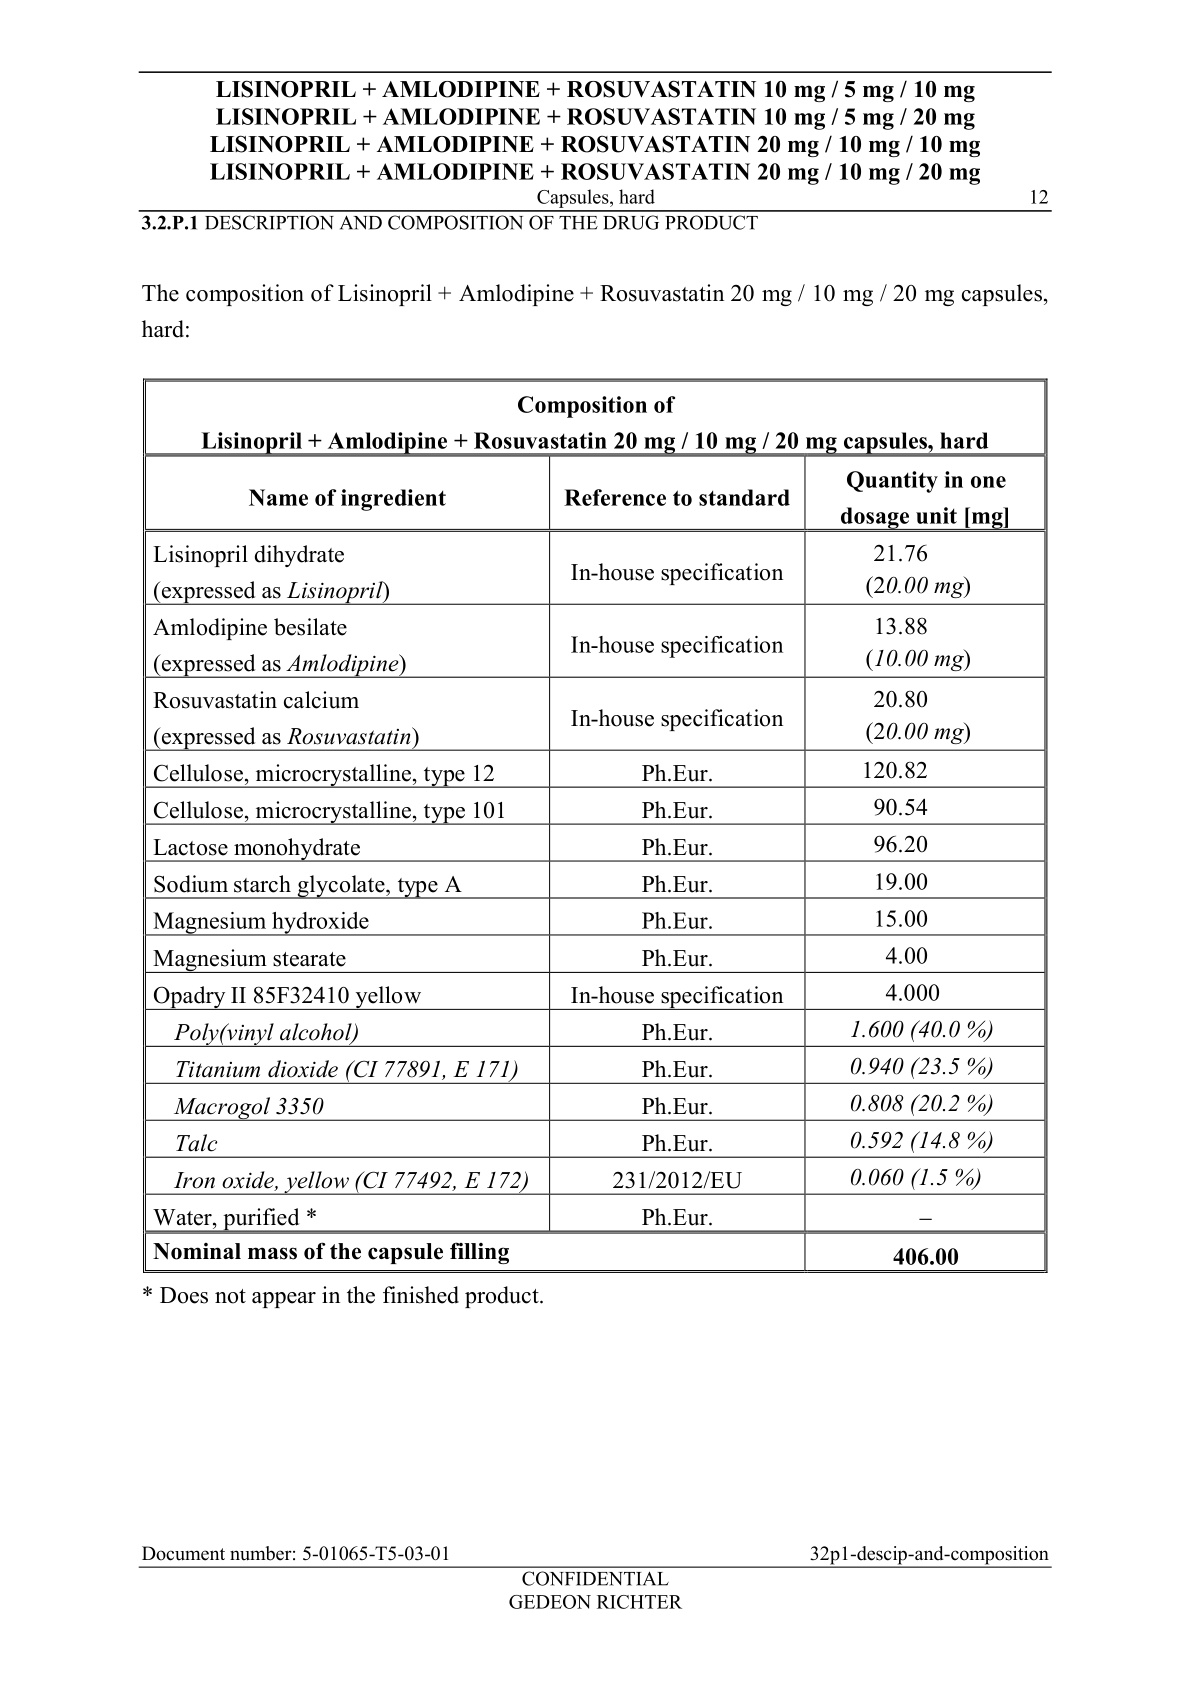merged_cells: (140, 376, 1048, 1274)
